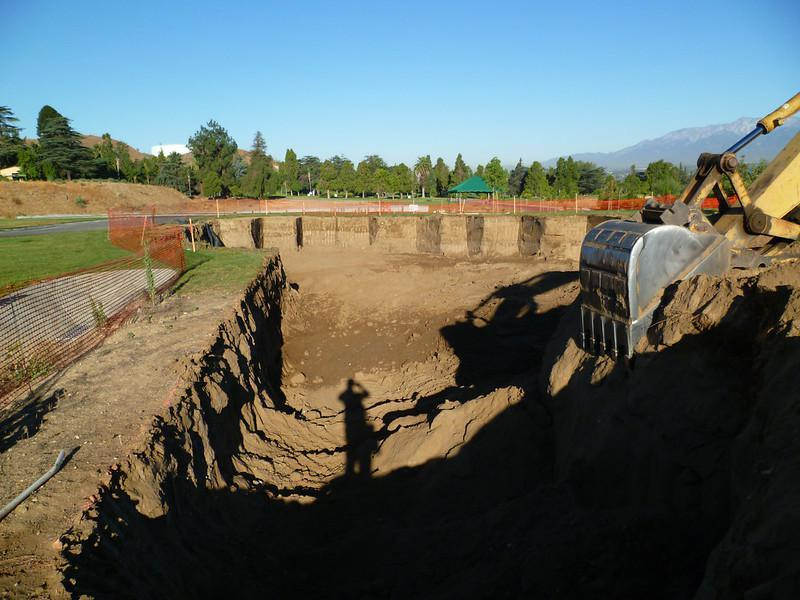EXCAVATORS: (574, 89, 799, 364)
